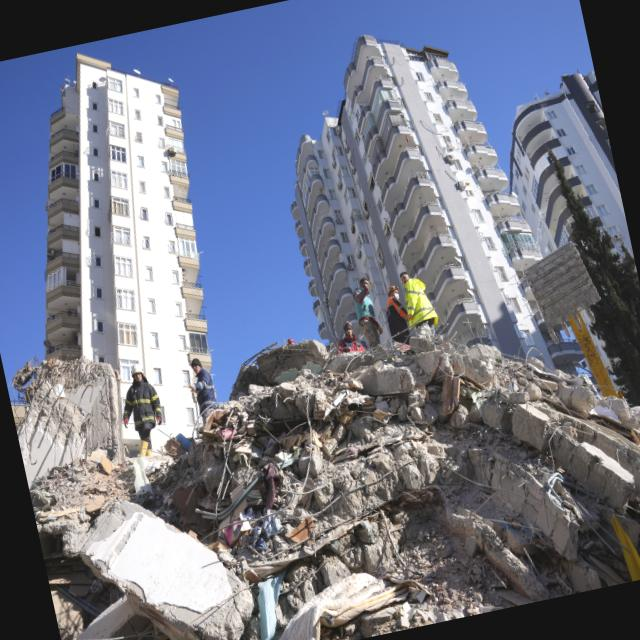helmet: (126, 361, 144, 378)
vest: (114, 375, 168, 436), (402, 279, 437, 324)
